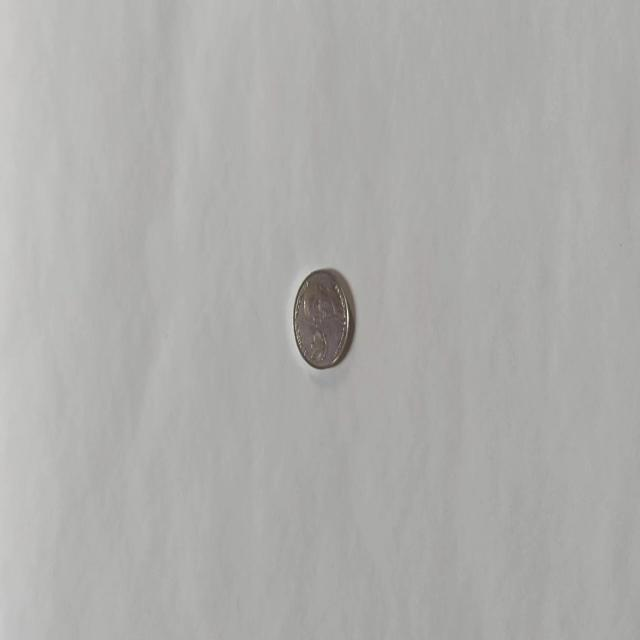lima ratus rupiah: (292, 266, 350, 370)
